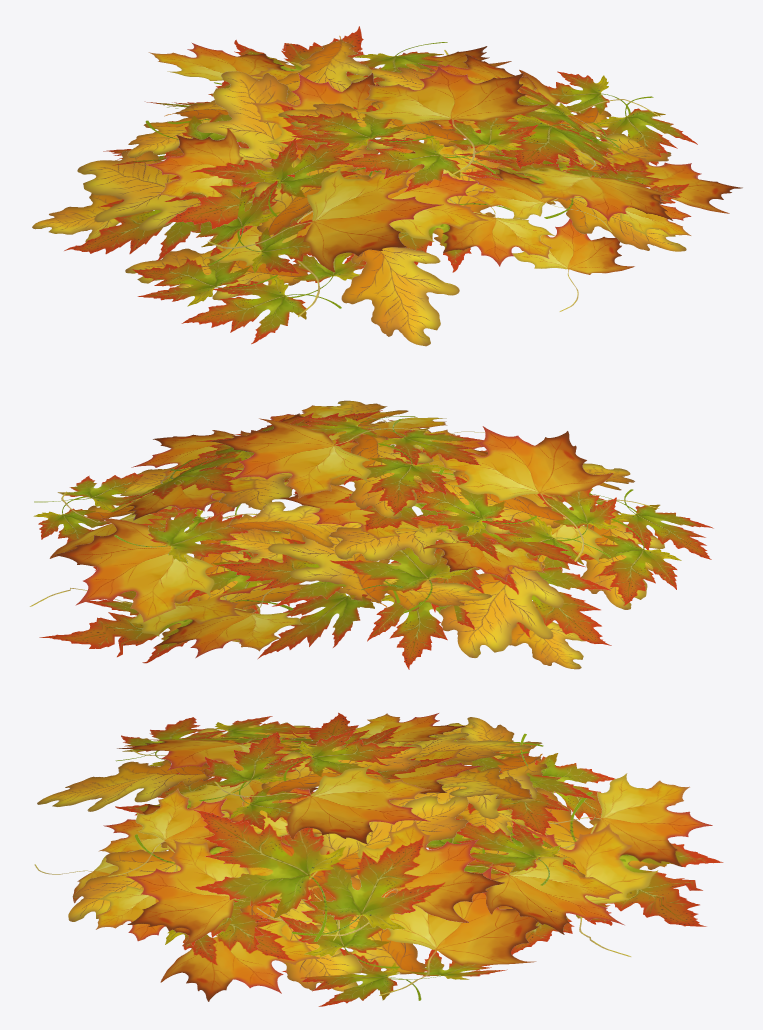
The model's file is dead_leaf_tas_grand.fbx.
3 views of the same model, one above another, from view 1: azimuth 30°, elevation 25°; view 2: azimuth 150°, elevation 25°; view 3: azimuth 270°, elevation 25° (orthographic). The views are drawn at different scales.
Visible parts, largest first — view 1: dead_leaf_tas_grand; view 2: dead_leaf_tas_grand; view 3: dead_leaf_tas_grand.
Boxes of the visible parts, x1,y1,x2,y2 form: dead_leaf_tas_grand: [32, 26, 742, 346]; dead_leaf_tas_grand: [29, 400, 713, 669]; dead_leaf_tas_grand: [34, 712, 723, 1006].
Bounding box in the file's own units: 108 × 14.99 × 108.
